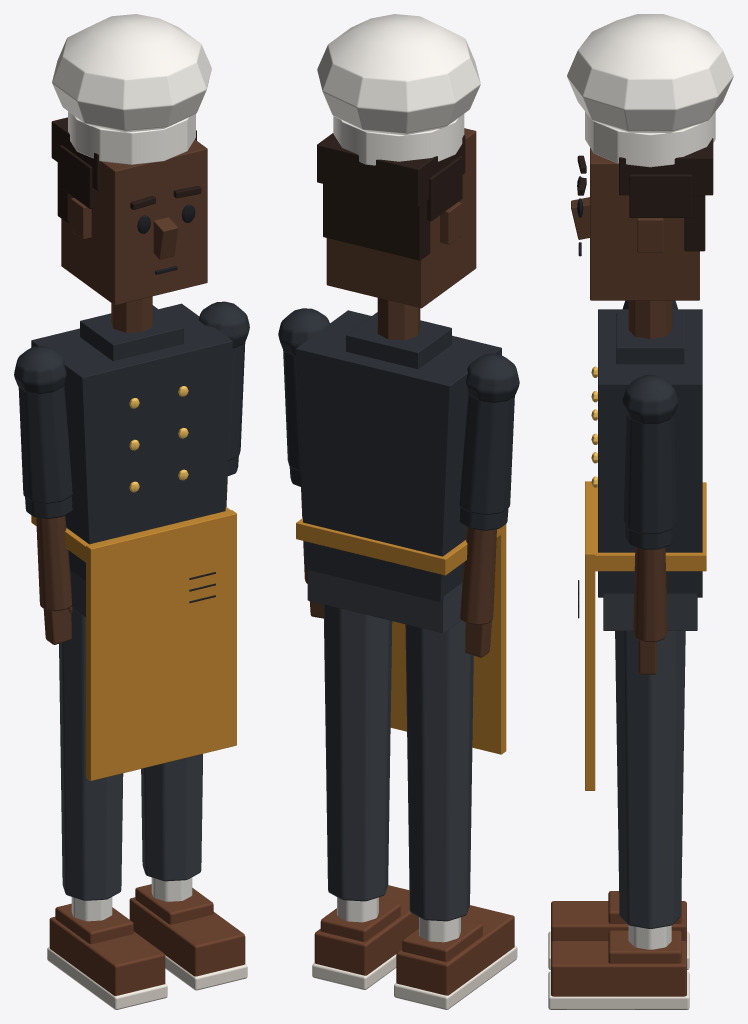
Rendered from Chef_Head.glb.
3 views of the same model, side by side, from view 1: azimuth 30°, elevation 25°; view 2: azimuth 150°, elevation 25°; view 3: azimuth 270°, elevation 25° (orthographic). The views are drawn at different scales.
Visible parts, largest first — view 1: Chef_Head_Torso, Chef_Head_Head, Chef_Head_LegL, Chef_Head_LegR, Chef_Head_ArmL, Chef_Head_ForearmL, Chef_Head_ArmR; view 2: Chef_Head_Torso, Chef_Head_Head, Chef_Head_LegL, Chef_Head_LegR, Chef_Head_ArmL, Chef_Head_ForearmL, Chef_Head_ArmR; view 3: Chef_Head_Head, Chef_Head_LegR, Chef_Head_Torso, Chef_Head_ArmR, Chef_Head_ForearmR, Chef_Head_LegL.
Part boxes in pixels (left/top/right/bottom): Chef_Head_Torso: left=31, top=296, right=236, bottom=780; Chef_Head_Head: left=51, top=14, right=211, bottom=305; Chef_Head_LegL: left=47, top=575, right=167, bottom=1009; Chef_Head_LegR: left=129, top=754, right=247, bottom=990; Chef_Head_ArmL: left=14, top=345, right=72, bottom=503; Chef_Head_ForearmL: left=25, top=496, right=72, bottom=644; Chef_Head_ArmR: left=199, top=301, right=249, bottom=460; Chef_Head_Torso: left=296, top=298, right=506, bottom=754; Chef_Head_Head: left=317, top=14, right=480, bottom=308; Chef_Head_LegL: left=394, top=588, right=517, bottom=1009; Chef_Head_LegR: left=312, top=604, right=418, bottom=989; Chef_Head_ArmL: left=459, top=353, right=519, bottom=514; Chef_Head_ForearmL: left=459, top=507, right=508, bottom=657; Chef_Head_ArmR: left=278, top=308, right=330, bottom=471; Chef_Head_Head: left=567, top=14, right=733, bottom=300; Chef_Head_LegR: left=548, top=631, right=689, bottom=1009; Chef_Head_Torso: left=578, top=300, right=706, bottom=790; Chef_Head_ArmR: left=622, top=375, right=678, bottom=534; Chef_Head_ForearmR: left=625, top=524, right=675, bottom=674; Chef_Head_LegL: left=548, top=891, right=689, bottom=969.
Bounding box in the file's own units: 0.5128 × 2.01 × 0.3542.
